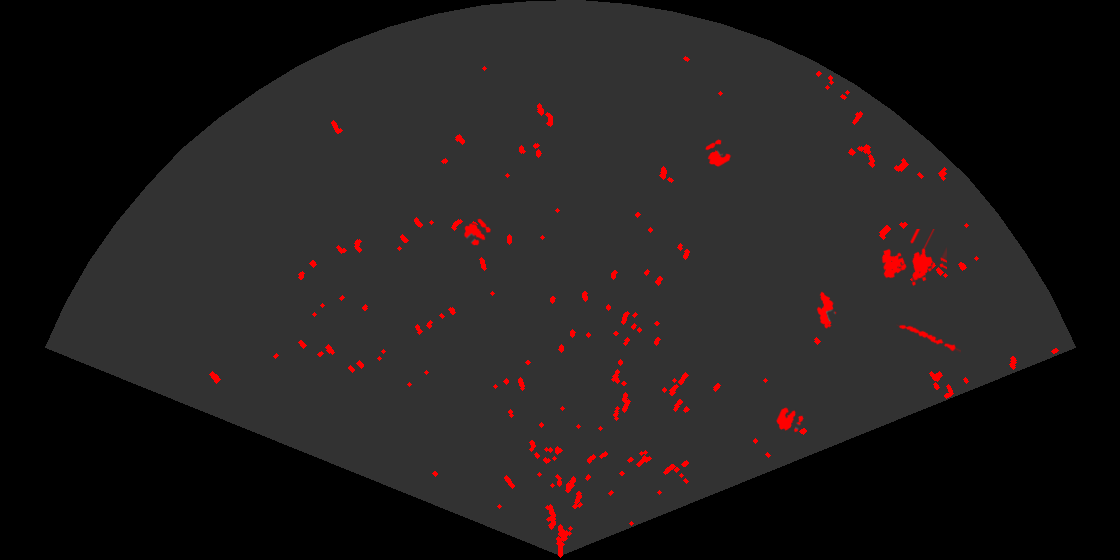AUV: (815, 290, 838, 330)
ball: (462, 217, 492, 247), (775, 405, 805, 434), (704, 138, 733, 168)
cage: (880, 229, 947, 288)
chain: (896, 323, 961, 354)
